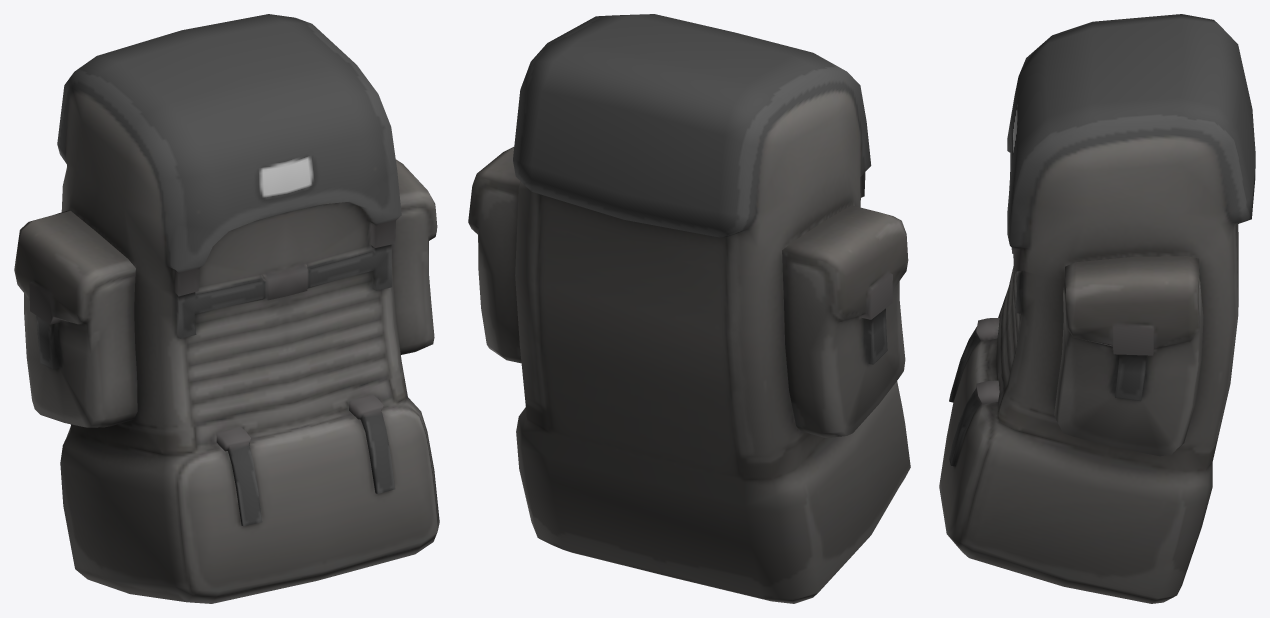
Rendered from IG_Backpack_LV5.fbx.
3 views of the same model, side by side, from view 1: azimuth 30°, elevation 25°; view 2: azimuth 150°, elevation 25°; view 3: azimuth 270°, elevation 25° (orthographic). The views are drawn at different scales.
Parts seen in each view (by area): view 1: Backpack_LV5; view 2: Backpack_LV5; view 3: Backpack_LV5.
Part boxes in pixels (<box>): Backpack_LV5: <box>14,14,439,603</box>; Backpack_LV5: <box>468,14,910,603</box>; Backpack_LV5: <box>939,14,1255,603</box>.
Bounding box in the file's own units: 0.5254 × 0.6789 × 0.3948.
